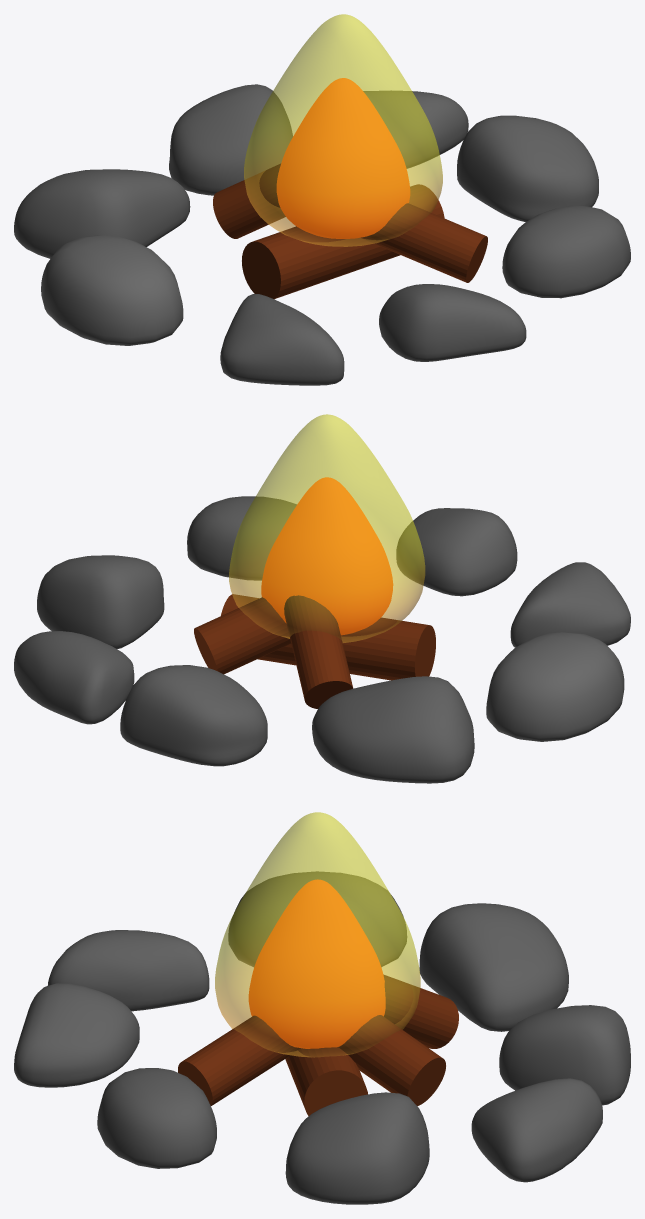
The model's file is firecamp.glb.
3 renders of one model, top to bottom at view 1: azimuth 30°, elevation 25°; view 2: azimuth 150°, elevation 25°; view 3: azimuth 270°, elevation 25°, orthographic. The views are drawn at different scales.
Visible parts, largest first — view 1: fogo, foguinho, pedra, pedra7, pedra1, pedra2, pedra6, pedra5, pedra4, lenha, lenha3, pedra3 (+1 smaller); view 2: fogo, pedra1, foguinho, pedra, pedra2, pedra7, pedra5, pedra3, pedra4, pedra6, lenha, lenha1 (+1 smaller); view 3: fogo, foguinho, pedra1, pedra7, pedra5, pedra3, pedra6, pedra2, pedra4, pedra, lenha2, lenha3 (+2 smaller).
Boxes of the visible parts, x1,y1,x2,y2 form: fogo: (244,14,442,246); foguinho: (276,78,410,238); pedra: (41,235,183,345); pedra7: (457,115,598,221); pedra1: (14,169,190,258); pedra2: (169,84,292,195); pedra6: (502,205,630,298); pedra5: (379,284,526,361); pedra4: (220,294,344,385); lenha: (242,184,444,299); lenha3: (360,203,487,282); pedra3: (363,90,468,168); fogo: (229,414,425,642); pedra1: (312,676,474,783); foguinho: (261,477,393,635); pedra: (486,632,624,741); pedra2: (120,665,267,766); pedra7: (37,555,164,648); pedra5: (396,508,517,596); pedra3: (14,631,134,724); pedra4: (510,562,630,647); pedra6: (187,496,296,580); lenha: (221,594,435,680); lenha1: (284,595,353,708); fogo: (215,812,420,1057); foguinho: (248,879,385,1048); pedra1: (419,903,568,1031); pedra7: (285,1092,429,1204); pedra5: (14,983,139,1087); pedra3: (471,1078,602,1182); pedra6: (97,1068,216,1168); pedra2: (499,1005,630,1105); pedra4: (47,930,209,1011); pedra: (228,871,406,966); lenha2: (338,1015,445,1105); lenha3: (178,1015,299,1105).
Size of the model in its own units: 1.58 by 0.6962 by 1.45.
11 materials, 1 textured.
